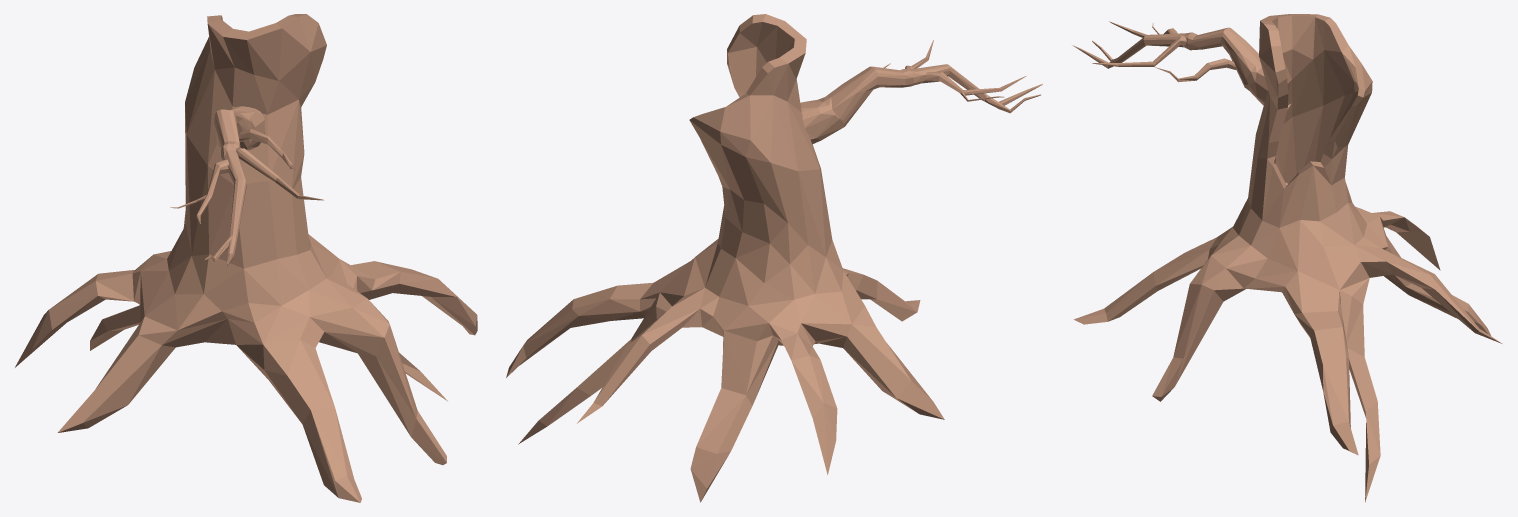
Rendered from fir_tree_4.fbx.
The picture shows the model from 3 angles, left to right: view 1: azimuth 30°, elevation 25°; view 2: azimuth 150°, elevation 25°; view 3: azimuth 270°, elevation 25°; orthographic projection. The views are drawn at different scales.
Parts seen in each view (by area): view 1: fir_tree_trunk_4_LOD0; view 2: fir_tree_trunk_4_LOD0; view 3: fir_tree_trunk_4_LOD0.
Boxes of the visible parts, x1,y1,x2,y2 form: fir_tree_trunk_4_LOD0: (15,14,477,502); fir_tree_trunk_4_LOD0: (506,14,1042,502); fir_tree_trunk_4_LOD0: (1072,14,1502,502).
Size of what is drawn, in the model's own units: 5.35 by 5.47 by 5.43.
